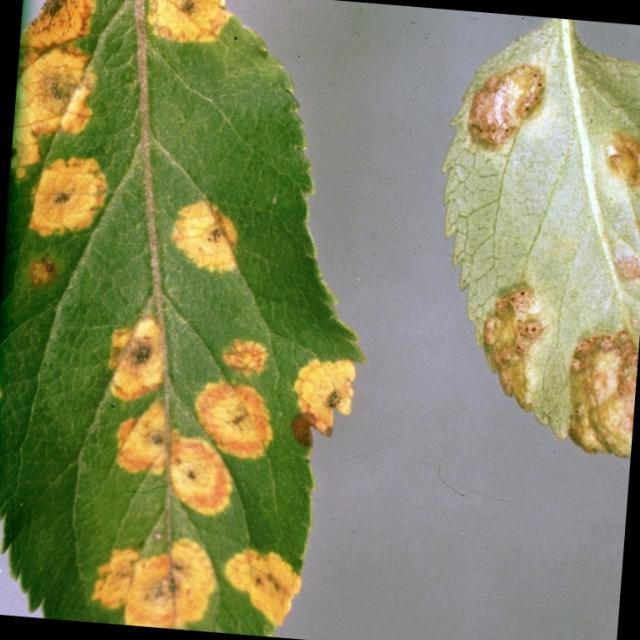Gymnosporangium_Rusts: (2, 0, 365, 635), (413, 0, 639, 489)
